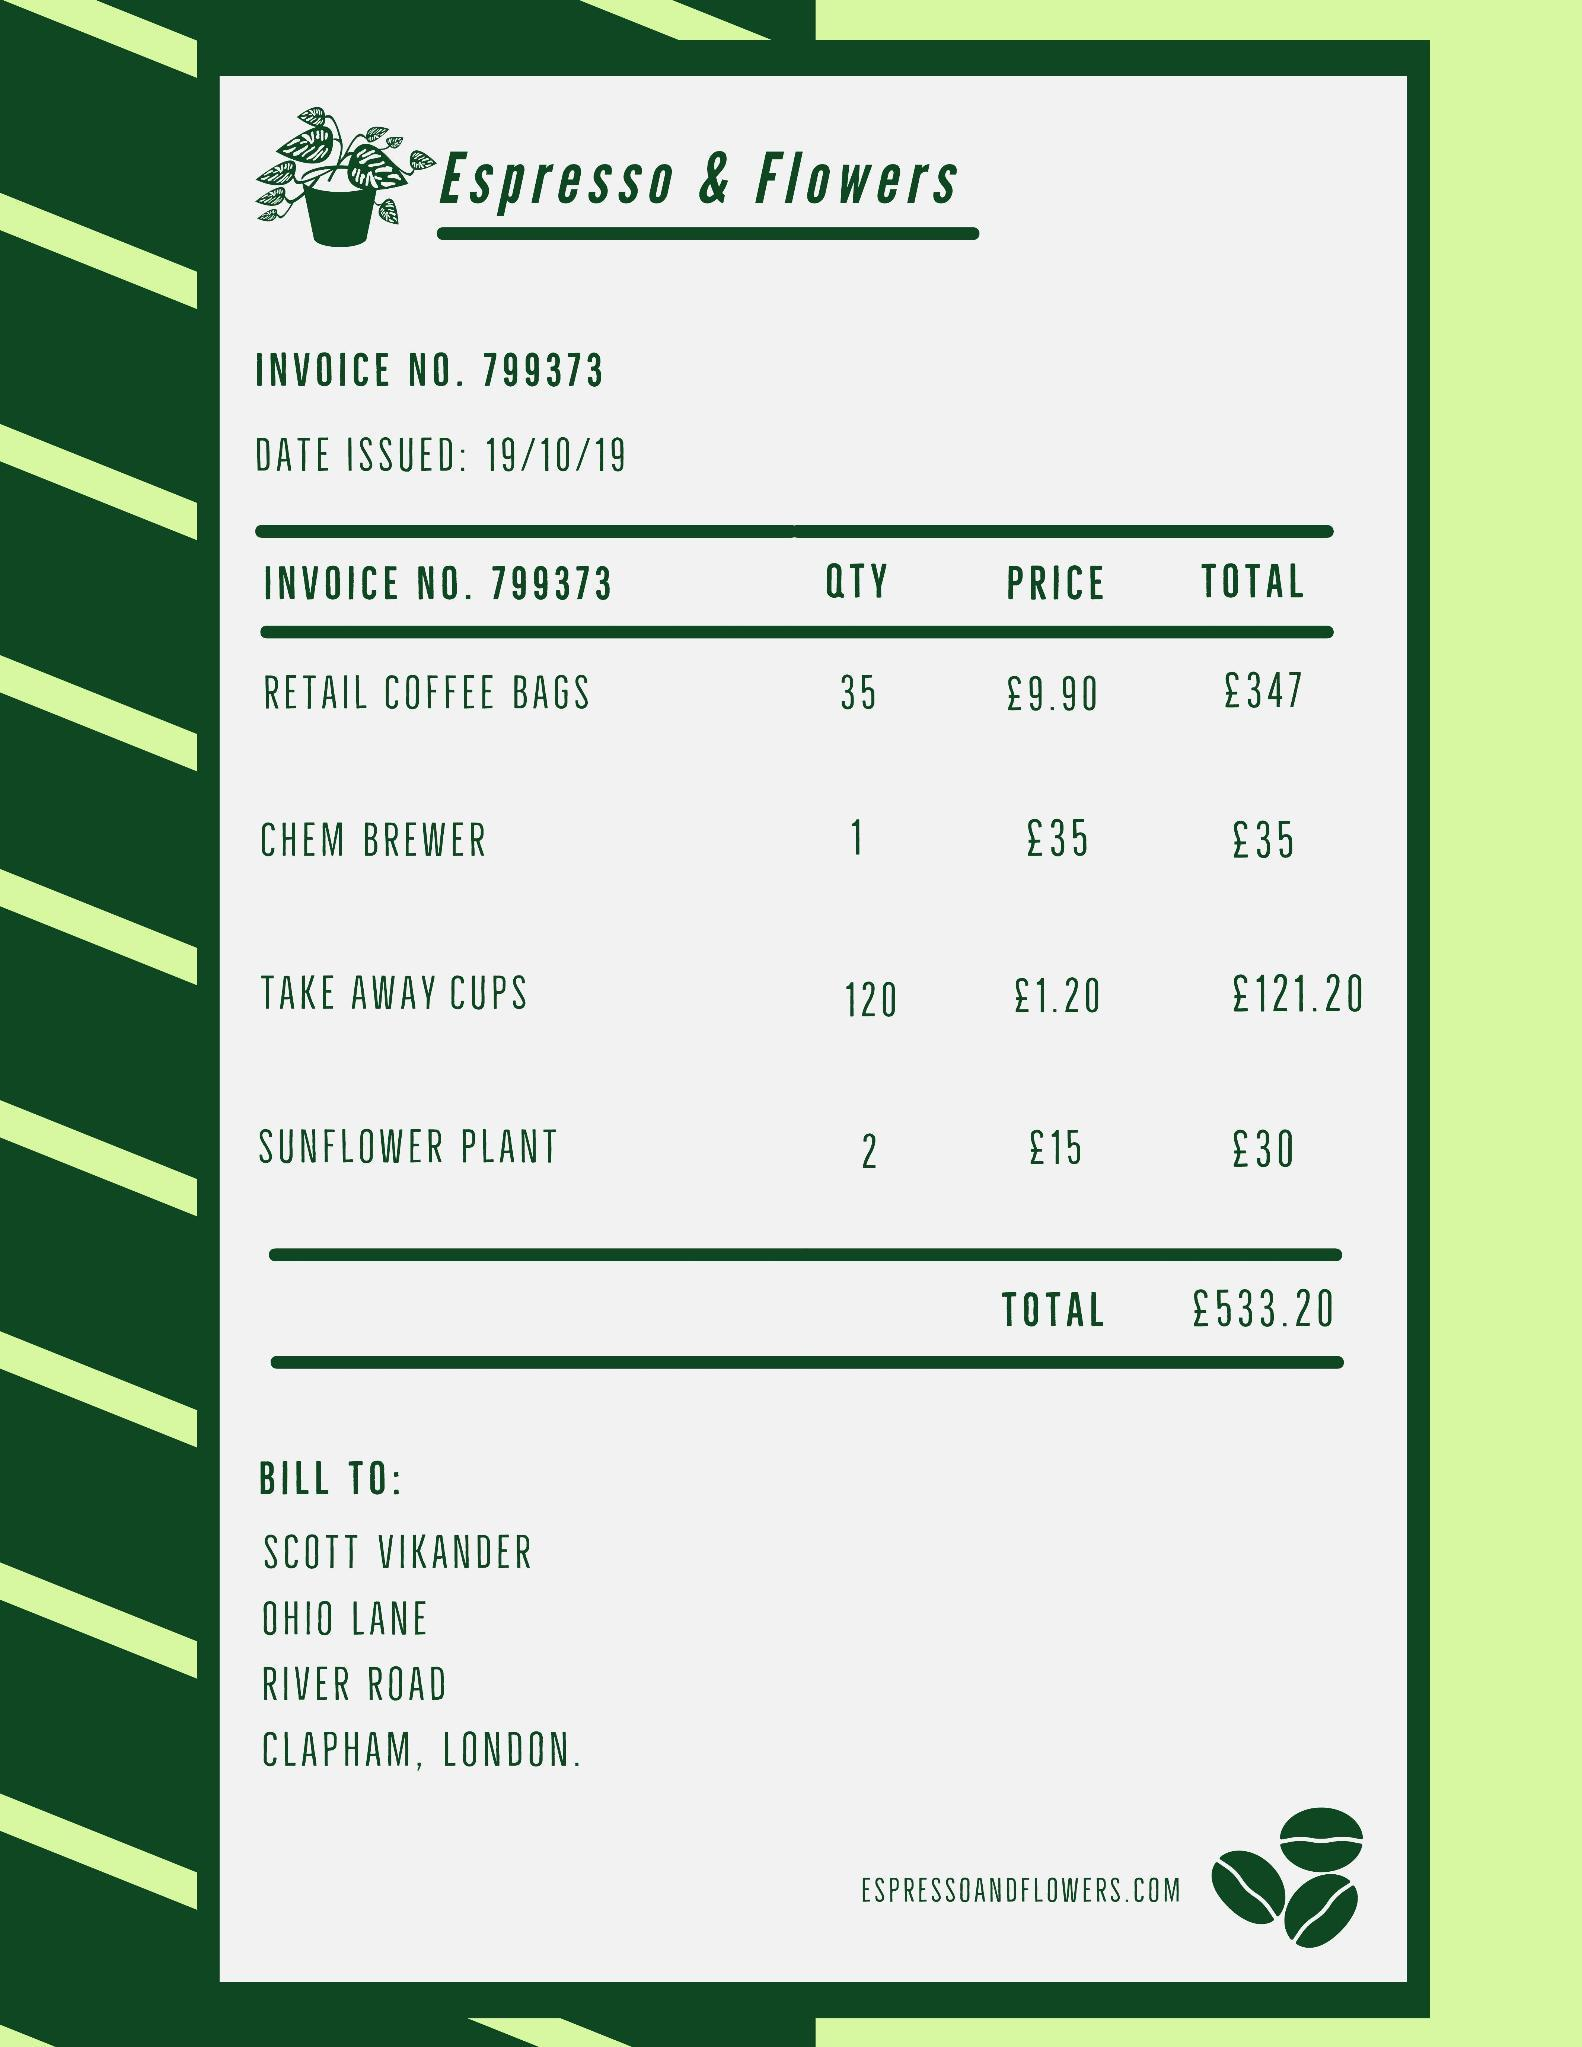ROI: (248, 515, 1383, 1221), (249, 1451, 617, 1791), (251, 336, 650, 493), (434, 143, 1007, 233), (989, 1274, 1354, 1339), (854, 1864, 1193, 1921)
